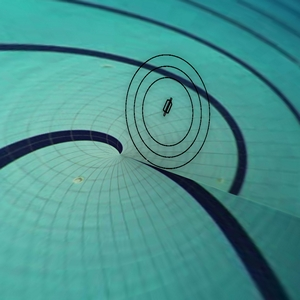circle: (100, 39, 228, 183)
submarine: (157, 96, 179, 123)
